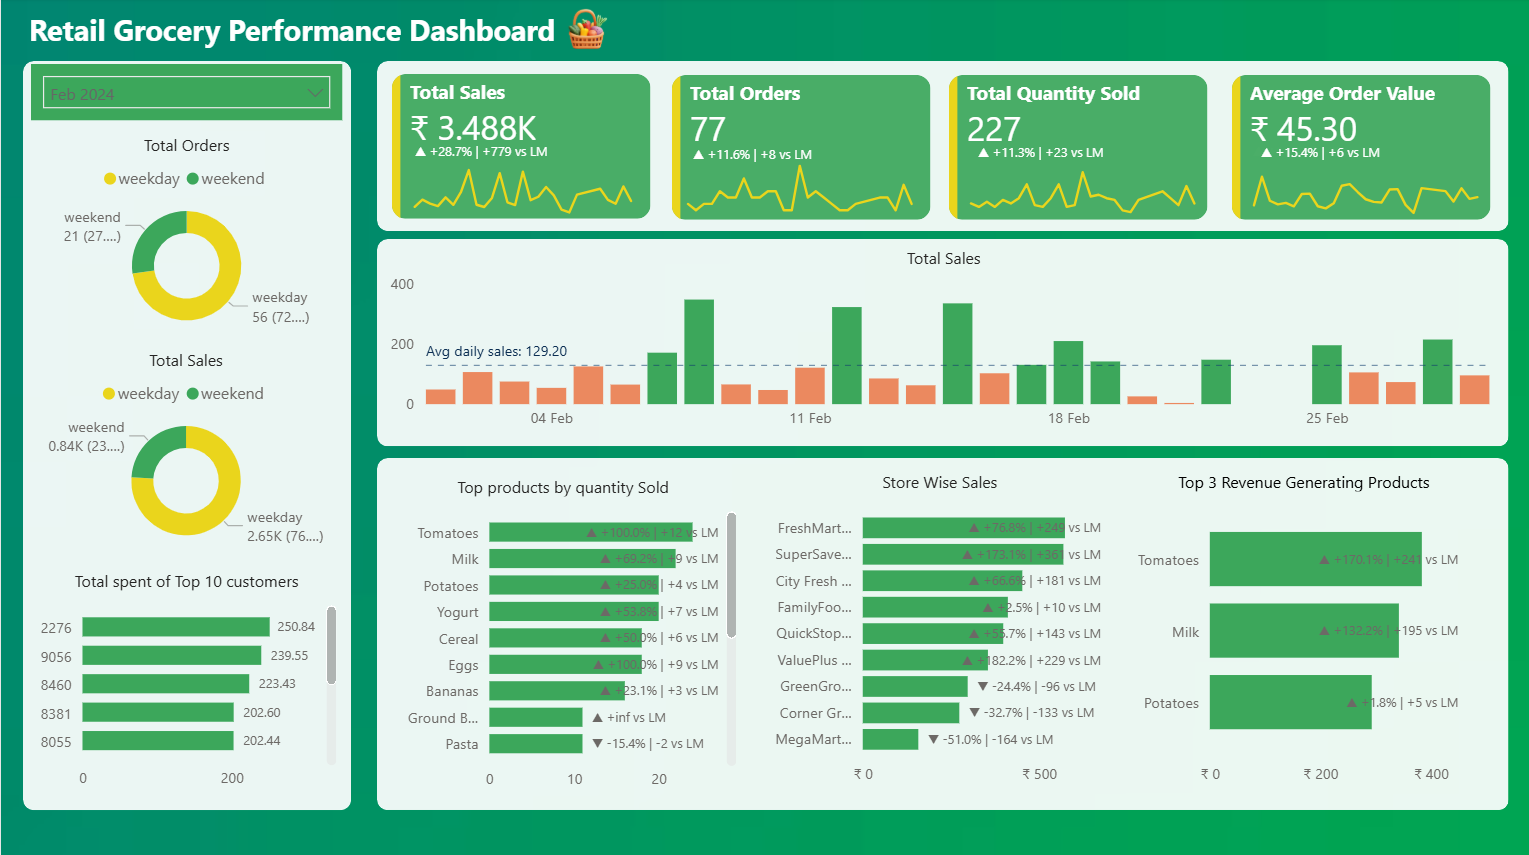

The page's visual inventory and layout, read from the dashboard file:
{"tool":"powerbi","page":{"name":"Page 1","canvas":[1280,720],"ordinal":0},"visuals":[{"type":"shape","box":[18.1,52.4,274.1,625.9],"z":0},{"type":"cardVisual","fields":{"Data":["Query1.Total sales"]},"box":[321.3,58.6,226,131],"z":0,"group":"g1"},{"type":"cardVisual","fields":{"Data":["Query1.Total Orders"]},"box":[555.6,59.4,226.1,131.2],"z":0,"group":"g2"},{"type":"cardVisual","fields":{"Data":["Query1.Total Quantity Sold"]},"box":[787,59.4,226,131],"z":0,"group":"g3"},{"type":"cardVisual","fields":{"Data":["Query1.Average Order Value"]},"box":[1023,59.5,226,131],"z":0,"group":"g4"},{"type":"slicer","fields":{"Values":["Date.Month year"]},"box":[25.2,55.4,260,47.4],"z":1000},{"type":"lineChart","fields":{"Y":["Query1.Total Revenue"],"Category":["Date.Date.Variation.Date Hierarchy.Day"]},"box":[340.6,120.8,141.2,17],"z":1000,"group":"g1"},{"type":"lineChart","fields":{"Category":["Date.Date.Variation.Date Hierarchy.Day"],"Y":["Query1.Total Quantity Sold"]},"box":[811,120.9,137,17.1],"z":1000,"group":"g3"},{"type":"lineChart","fields":{"Category":["Date.Date.Variation.Date Hierarchy.Day"],"Y":["Query1.Average Order Value"]},"box":[1047,121,137,17.1],"z":1000,"group":"g4"},{"type":"lineChart","fields":{"Category":["Date.Date.Variation.Date Hierarchy.Day"],"Y":["Query1.Total Orders"]},"box":[573.1,122.8,139.5,17.1],"z":1000,"group":"g2"},{"type":"lineChart","fields":{"Y":["Query1.Total Revenue"],"Category":["Date.Date.Variation.Date Hierarchy.Day"]},"box":[1041.1,119.9,137.1,17.1],"z":2000},{"type":"lineChart","fields":{"Category":["Date.Date.Variation.Date Hierarchy.Day"],"Y":["Query1.Total Quantity Sold"]},"box":[788.9,123,230,63.5],"z":2000,"group":"g3"},{"type":"lineChart","fields":{"Category":["Date.Date.Variation.Date Hierarchy.Day"],"Y":["Query1.Average Order Value"]},"box":[1024.9,123.1,230,63.5],"z":2000,"group":"g4"},{"type":"lineChart","fields":{"Y":["Query1.Total Revenue"],"Category":["Date.Date.Variation.Date Hierarchy.Day"]},"box":[323.6,124.8,223.7,61],"z":2000,"group":"g1"},{"type":"lineChart","fields":{"Category":["Date.Date.Variation.Date Hierarchy.Day"],"Y":["Query1.Total Orders"]},"box":[551.9,125.8,230.2,62.5],"z":2000,"group":"g2"},{"type":"shape","box":[314.5,52.4,945.4,142.1],"z":3000},{"type":"group","id":"g1","title":"Group 1","box":[321.3,58.6,226,131],"z":4000},{"type":"group","id":"g2","title":"Group 1","box":[551.9,59.4,230.5,131.2],"z":5000},{"type":"group","id":"g3","title":"Group 1","box":[787,59.4,231.4,131.2],"z":6000},{"type":"donutChart","title":"Total Orders","fields":{"Category":["Date.Weekend / weekday"],"Y":["Query1.Total Orders"]},"box":[25.2,113.9,260,174.4],"z":7000},{"type":"donutChart","title":"Total Sales","fields":{"Category":["Date.Weekend / weekday"],"Y":["Query1.Total Sales"]},"box":[25.2,293.3,259,174.4],"z":8000},{"type":"shape","box":[314.5,201.6,945.4,173.4],"z":9000},{"type":"columnChart","title":"Total Sales","fields":{"Category":["Query1.transaction_date"],"Y":["Query1.Total Sales"]},"box":[319.5,207.6,935.3,161.3],"z":10000},{"type":"shape","box":[314.5,384,945.4,294.3],"z":11000},{"type":"clusteredBarChart","title":"Top products by  quantity Sold ","fields":{"Category":["Query1.product_name"],"Y":["Query1.Total Quantity Sold"]},"box":[319.5,399.1,299.3,271.1],"z":12000},{"type":"clusteredBarChart","title":"Store Wise Sales","fields":{"Category":["Query1.store_name"],"Y":["Query1.Total Sales"]},"box":[630,395,309,271],"z":13000},{"type":"group","id":"g4","title":"Group 1","box":[1023,59.5,231.8,131],"z":14000},{"type":"textbox","title":"Retail Grocery Performance Dashboard","box":[18.1,10.1,463.6,37.3],"z":15000},{"type":"image","box":[365.9,0,245.9,52.4],"z":16000},{"type":"clusteredBarChart","title":"Top 3 Revenue Generating Products ","fields":{"Y":["Query1.Total Sales"],"Category":["Query1.product_name"]},"box":[939.3,395.1,297.3,271.1],"z":17000},{"type":"barChart","title":"Total spent of Top 10 customers ","fields":{"Y":["Query1.total spent"],"Category":["Query1.customer_id"]},"box":[25,478,260,192],"z":18000}]}

Visuals, with their boxes in screenshot pixels (x1, y1, x2, y2), scaled from the page's 1280x720 canvas onto the 1529x855 screenshot:
shape: detection(22, 62, 349, 805)
cardVisual - Query1.Total sales: detection(384, 70, 654, 225)
cardVisual - Query1.Total Orders: detection(664, 71, 934, 226)
cardVisual - Query1.Total Quantity Sold: detection(940, 71, 1210, 226)
cardVisual - Query1.Average Order Value: detection(1222, 71, 1492, 226)
slicer - Date.Month year: detection(30, 66, 341, 122)
lineChart - Query1.Total Revenue x Date.Date.Variation.Date Hierarchy.Day: detection(407, 143, 576, 164)
lineChart - Date.Date.Variation.Date Hierarchy.Day x Query1.Total Quantity Sold: detection(969, 144, 1132, 164)
lineChart - Date.Date.Variation.Date Hierarchy.Day x Query1.Average Order Value: detection(1251, 144, 1414, 164)
lineChart - Date.Date.Variation.Date Hierarchy.Day x Query1.Total Orders: detection(685, 146, 851, 166)
lineChart - Query1.Total Revenue x Date.Date.Variation.Date Hierarchy.Day: detection(1244, 142, 1407, 163)
lineChart - Date.Date.Variation.Date Hierarchy.Day x Query1.Total Quantity Sold: detection(942, 146, 1217, 221)
lineChart - Date.Date.Variation.Date Hierarchy.Day x Query1.Average Order Value: detection(1224, 146, 1499, 222)
lineChart - Query1.Total Revenue x Date.Date.Variation.Date Hierarchy.Day: detection(387, 148, 654, 221)
lineChart - Date.Date.Variation.Date Hierarchy.Day x Query1.Total Orders: detection(659, 149, 934, 224)
shape: detection(376, 62, 1505, 231)
"Group 1" group: detection(384, 70, 654, 225)
"Group 1" group: detection(659, 71, 935, 226)
"Group 1" group: detection(940, 71, 1217, 226)
"Total Orders" donutChart: detection(30, 135, 341, 342)
"Total Sales" donutChart: detection(30, 348, 339, 555)
shape: detection(376, 239, 1505, 445)
"Total Sales" columnChart: detection(382, 247, 1499, 438)
shape: detection(376, 456, 1505, 805)
"Top products by  quantity Sold " clusteredBarChart: detection(382, 474, 739, 796)
"Store Wise Sales" clusteredBarChart: detection(753, 469, 1122, 791)
"Group 1" group: detection(1222, 71, 1499, 226)
"Retail Grocery Performance Dashboard" textbox: detection(22, 12, 575, 56)
image: detection(437, 0, 731, 62)
"Top 3 Revenue Generating Products " clusteredBarChart: detection(1122, 469, 1477, 791)
"Total spent of Top 10 customers " barChart: detection(30, 568, 340, 796)
